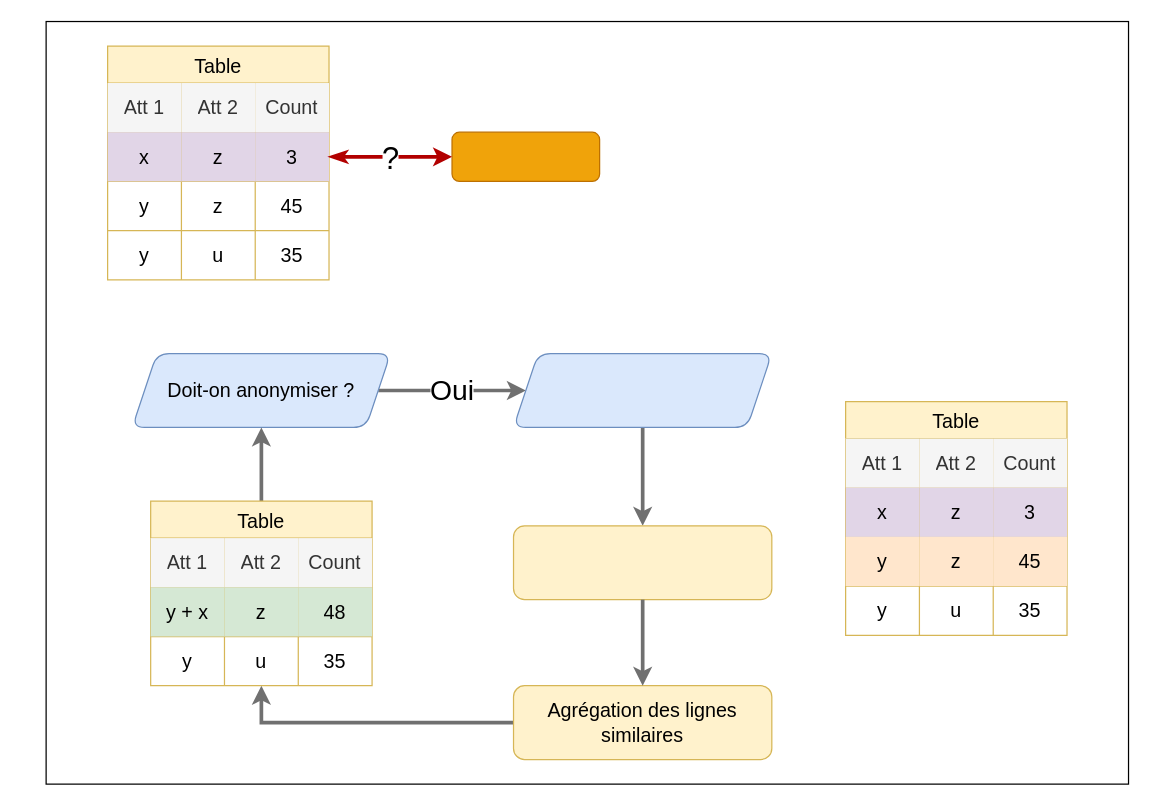
This 1150x806 diagram has some shape labels left out. The shapes that lost their labels are listed below. From the top down, each one's centre as x and y in pixels, then its label:
At pixel 525 156: "nMax = 5".
At pixel 642 389: "Quelle est la ligne la plus ressemblante ?".
At pixel 642 562: "Calcul des scores de similarité".
